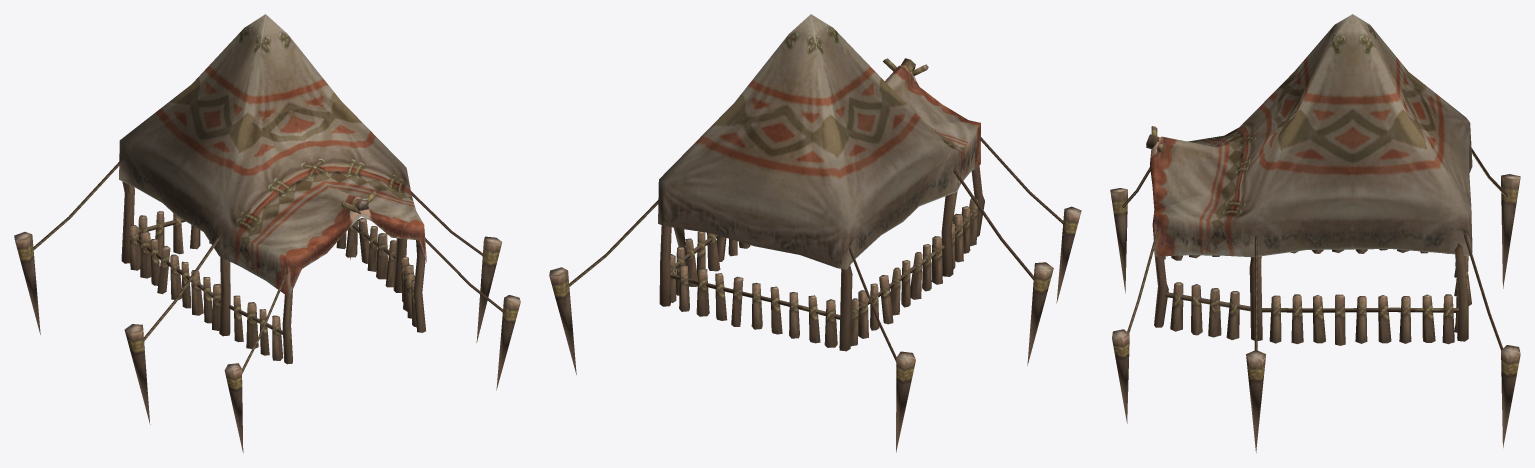
File: Anmaodao_zhanpeng02.FBX
The picture shows the model from 3 angles, left to right: view 1: azimuth 30°, elevation 25°; view 2: azimuth 150°, elevation 25°; view 3: azimuth 270°, elevation 25°; orthographic projection. The views are drawn at different scales.
Visible parts, largest first — view 1: Anmaodao_zhanpeng02; view 2: Anmaodao_zhanpeng02; view 3: Anmaodao_zhanpeng02.
Part boxes in pixels (x1,y1,x2,y2): Anmaodao_zhanpeng02: [14, 14, 520, 453]; Anmaodao_zhanpeng02: [549, 14, 1081, 452]; Anmaodao_zhanpeng02: [1110, 14, 1520, 452].
Bounding box in the file's own units: 91.43 × 82.67 × 78.91.
